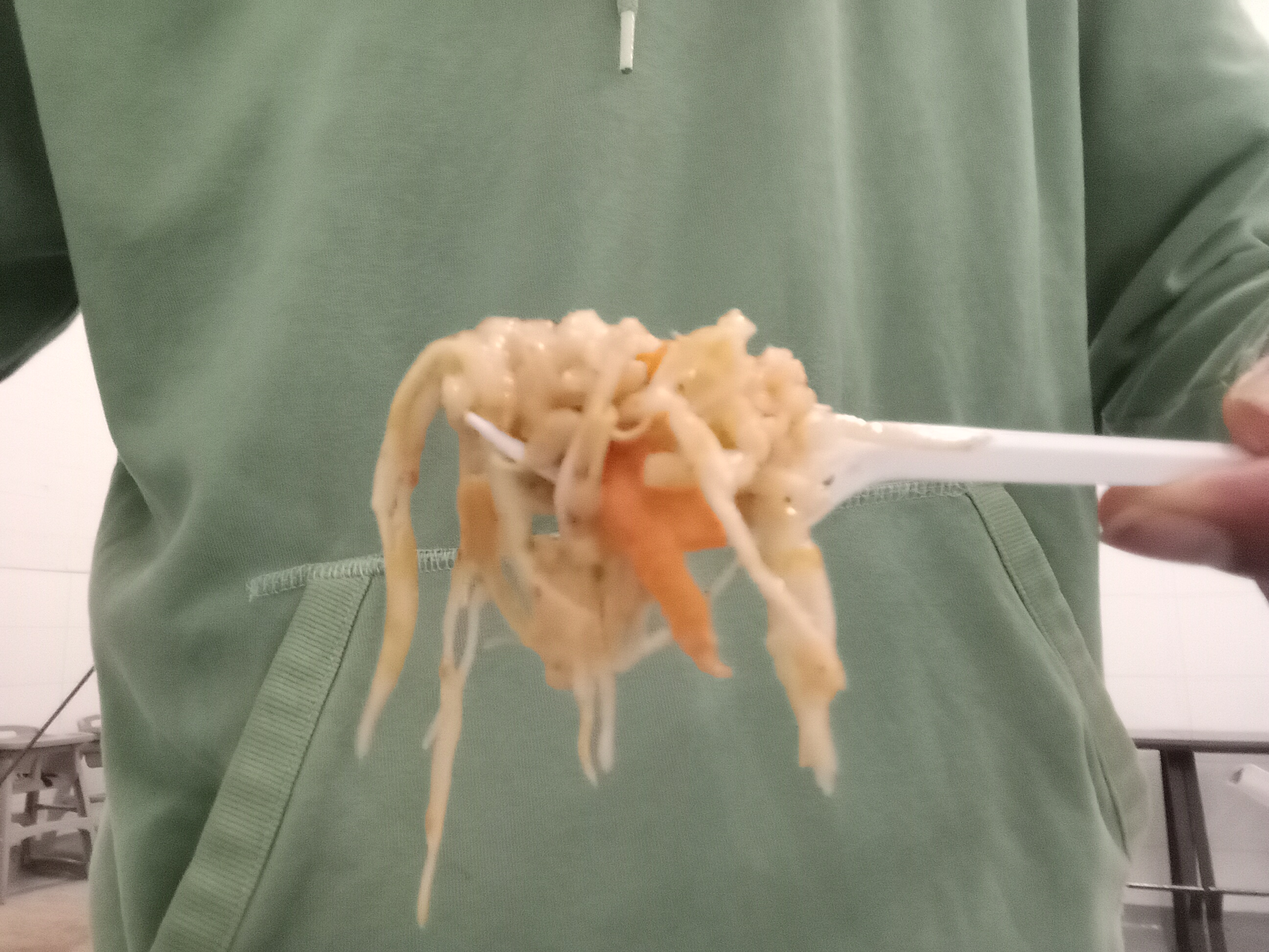Organico: (356, 304, 851, 927)
